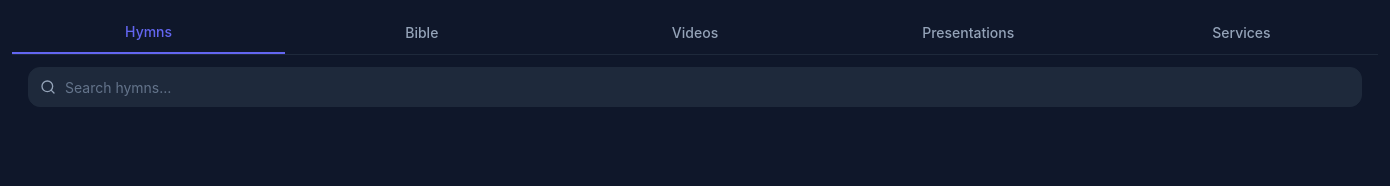
Test: SearchRoute — G3 (debounce 120 ms) › switching to Bible tab changes placeholder
The image size is (1390, 186).
Click the tab "Bible" at (422,33), box left=285, top=12, right=558, bottom=54
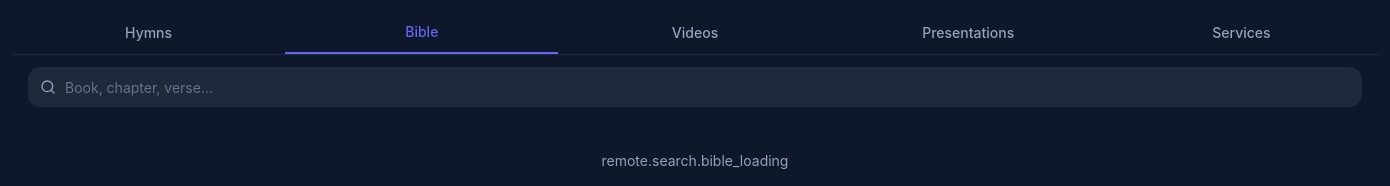
Expected: the search field with placeholder "Book, chapter, verse…" is shown, left=28, top=67, right=1362, bottom=107
